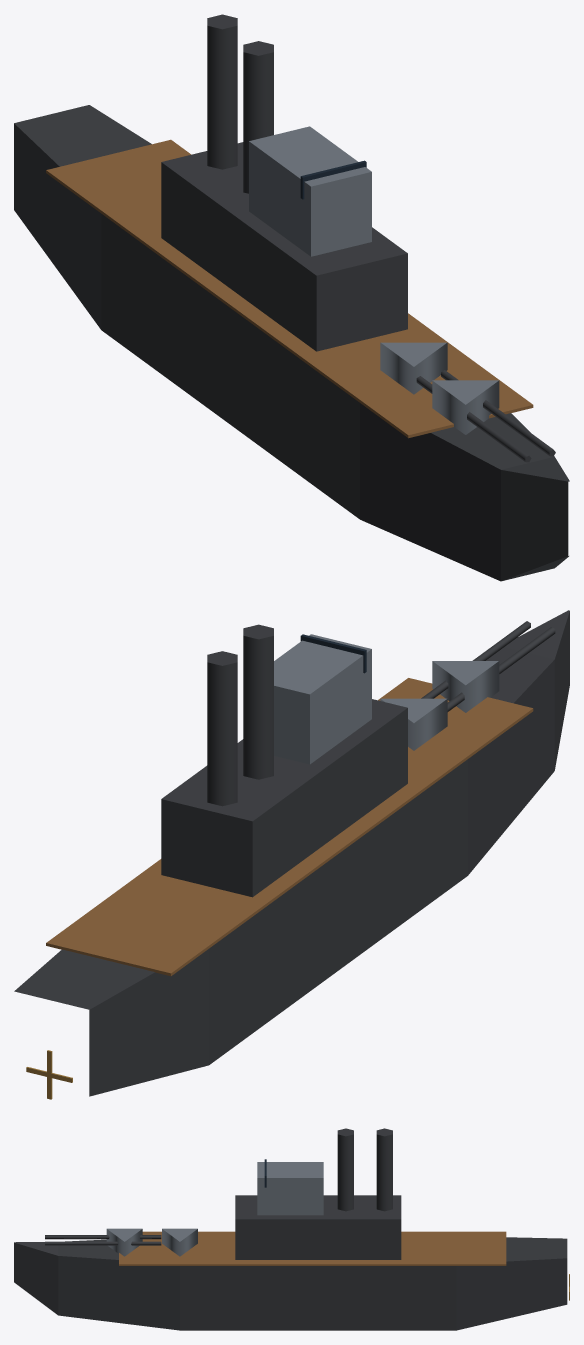
Rendered from veh_naval_warship_a05_lod2.glb.
3 renders of one model, top to bottom at view 1: azimuth 30°, elevation 25°; view 2: azimuth 150°, elevation 25°; view 3: azimuth 270°, elevation 25°, orthographic. The views are drawn at different scales.
Visible parts, largest first — view 1: body, turret_0, turret_1; view 2: body, turret_0, turret_1; view 3: body, turret_0, turret_1.
Boxes of the visible parts, x1,y1,x2,y2 form: body: (14,14,569,581); turret_0: (432,380,555,462); turret_1: (380,342,497,423); body: (14,610,569,1096); turret_0: (432,621,555,712); turret_1: (380,659,502,750); body: (14,1128,567,1330); turret_0: (45,1228,142,1256); turret_1: (100,1228,197,1256).
Size of the model in its own units: 3.53 by 9.29 by 25.42.
